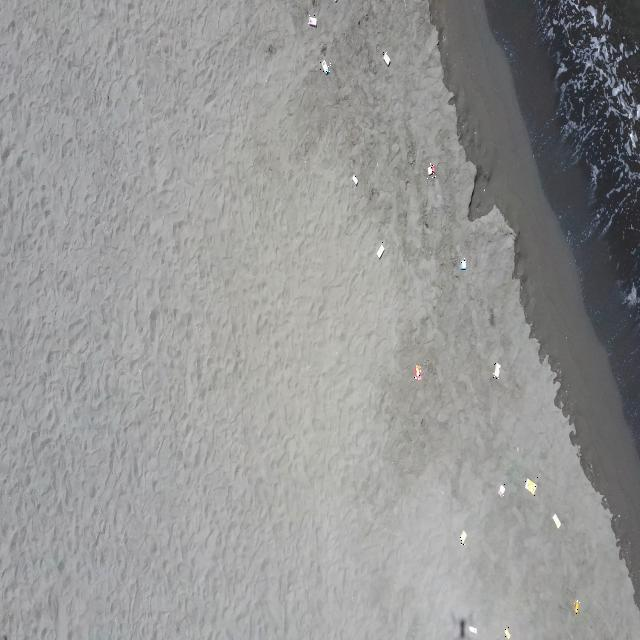Garbage: (524, 478, 535, 495), (412, 364, 422, 380), (375, 243, 384, 258), (492, 363, 500, 379), (552, 512, 560, 527), (320, 59, 328, 74), (427, 163, 435, 176), (572, 600, 580, 613), (307, 15, 315, 27), (460, 530, 466, 544), (497, 484, 504, 495), (504, 627, 510, 639), (460, 259, 466, 270), (383, 51, 388, 64), (468, 626, 476, 632), (352, 175, 356, 184)
